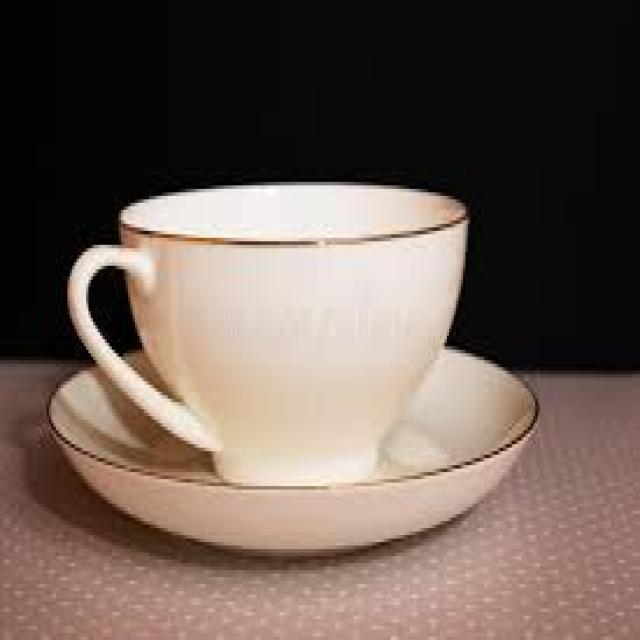taza: (49, 184, 498, 468)
